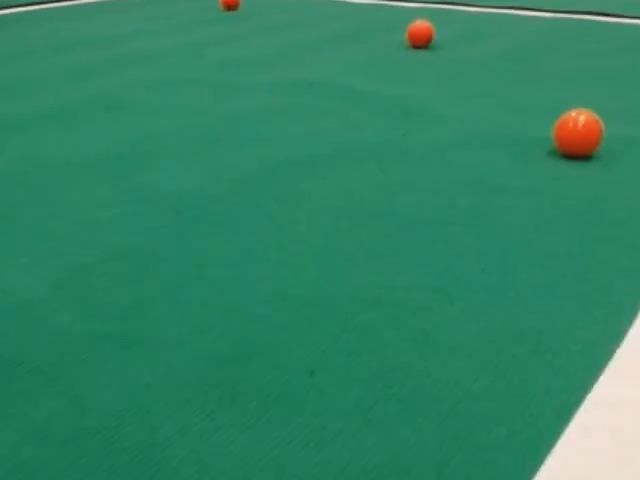Ball: (551, 108, 603, 158), (406, 19, 433, 48)
